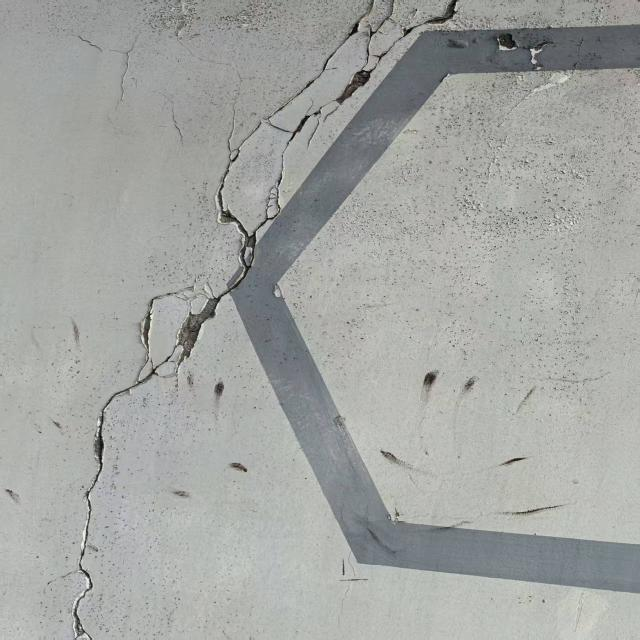crack: (42, 4, 478, 635)
spalling: (166, 291, 233, 366), (488, 30, 556, 68)
